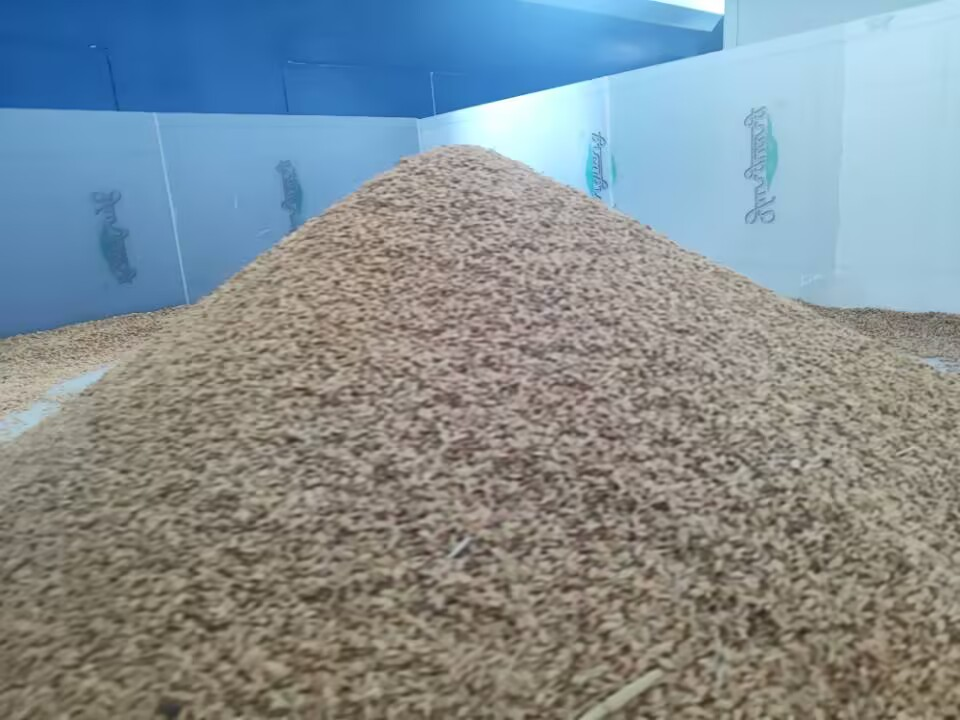Grain: (121, 132, 954, 690)
